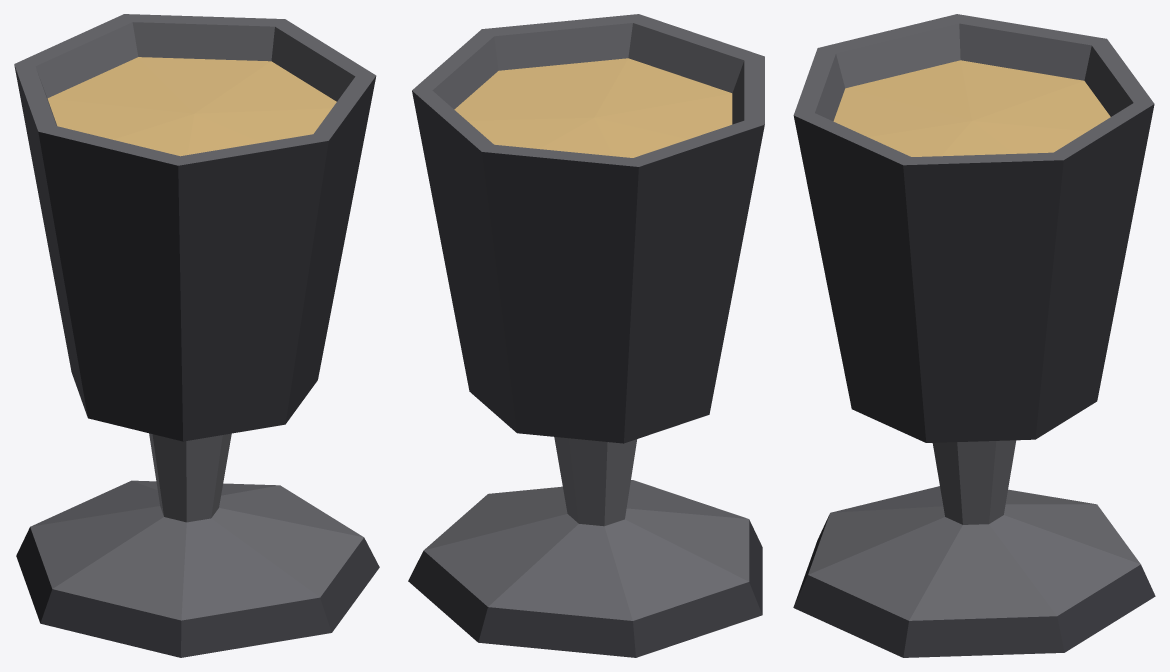
File: Cup_4.fbx
The picture shows the model from 3 angles, left to right: view 1: azimuth 30°, elevation 25°; view 2: azimuth 150°, elevation 25°; view 3: azimuth 270°, elevation 25°; orthographic projection.
Visible parts, largest first — view 1: polySurface1938; view 2: polySurface1938; view 3: polySurface1938.
Boxes of the visible parts, <box> form: polySurface1938: <box>14,14,379,657</box>; polySurface1938: <box>408,14,764,657</box>; polySurface1938: <box>793,14,1155,657</box>.
Size of the model in its own units: 15.6 by 23.35 by 15.62.
